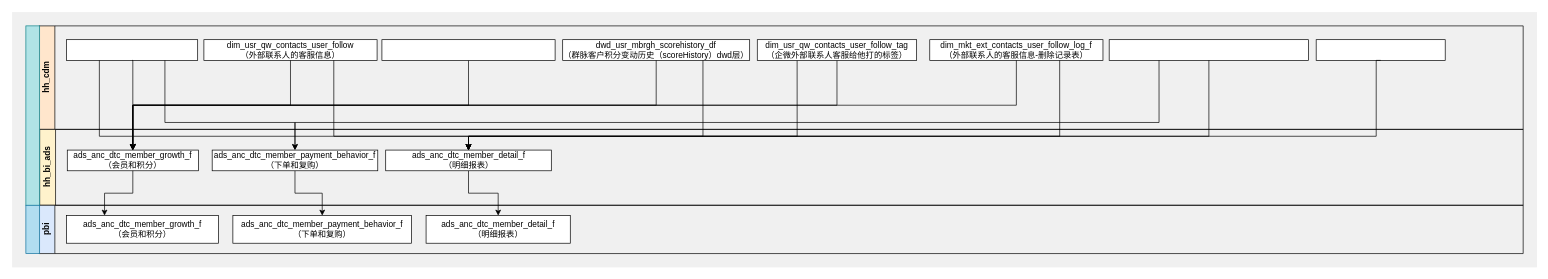
Some shapes in this 1548 by 279 pixel diagram are drawn without their labels. Here are the shapes that lost their labels. From the top down, the centre of each, then its label:
[132,49]: dwd_usr_user_level_history_df （会员升级记录）
[468,49]: dwd_usr_mbrgh_memberGrowthHistory_df （群脉客户成长值变动历史）
[1208,49]: dwd_trd_summary_cust_order_sku_all_df （订单sku事实表[记录线上和线下订单信息]）
[1380,49]: dim_usr_member （会员）
[32,115]: dataphin
[32,229]: hologeres
